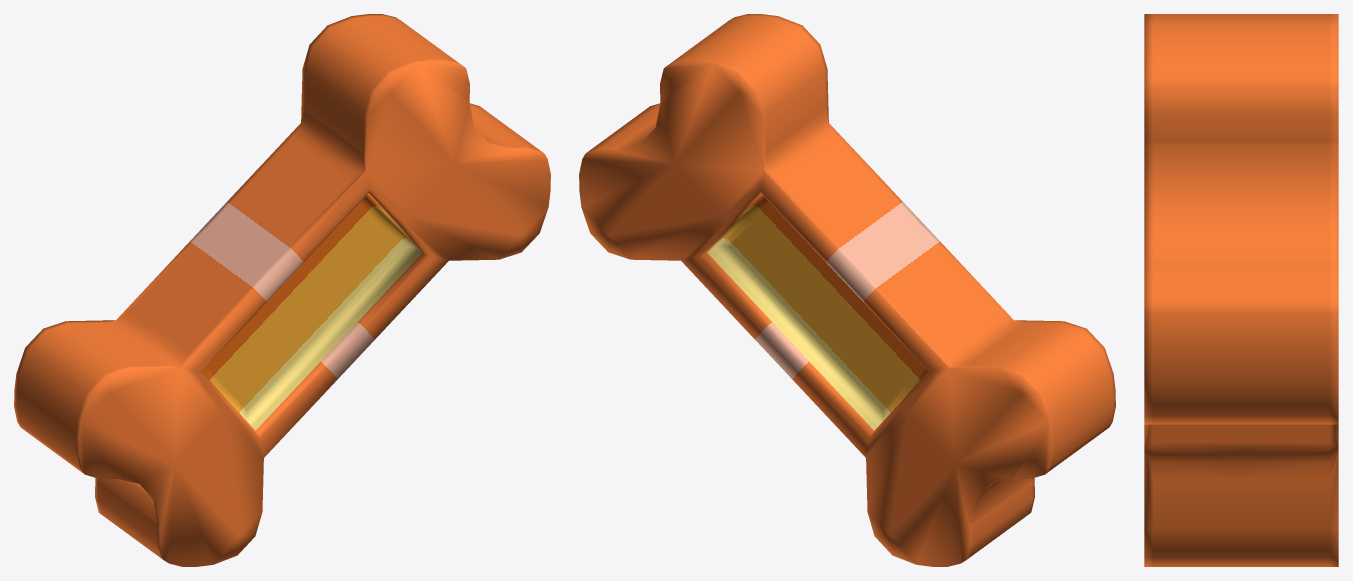
Rendered from Premio_Avenita.fbx.
3 views of the same model, side by side, from view 1: azimuth 30°, elevation 25°; view 2: azimuth 150°, elevation 25°; view 3: azimuth 270°, elevation 25° (orthographic). The views are drawn at different scales.
Parts seen in each view (by area): view 1: Cube; view 2: Cube; view 3: Cube.
Part boxes in pixels (left/top/right/bottom): Cube: left=14, top=14, right=550, bottom=566; Cube: left=579, top=14, right=1115, bottom=566; Cube: left=1144, top=14, right=1338, bottom=566.
Bounding box in the file's own units: 190 × 174 × 45.35.
Materials: 1 (1 with a texture image).
